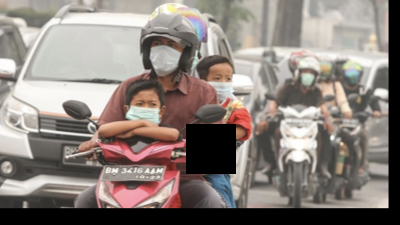with_mask: (147, 38, 182, 77), (125, 97, 160, 125), (207, 72, 233, 103), (299, 69, 315, 88)
